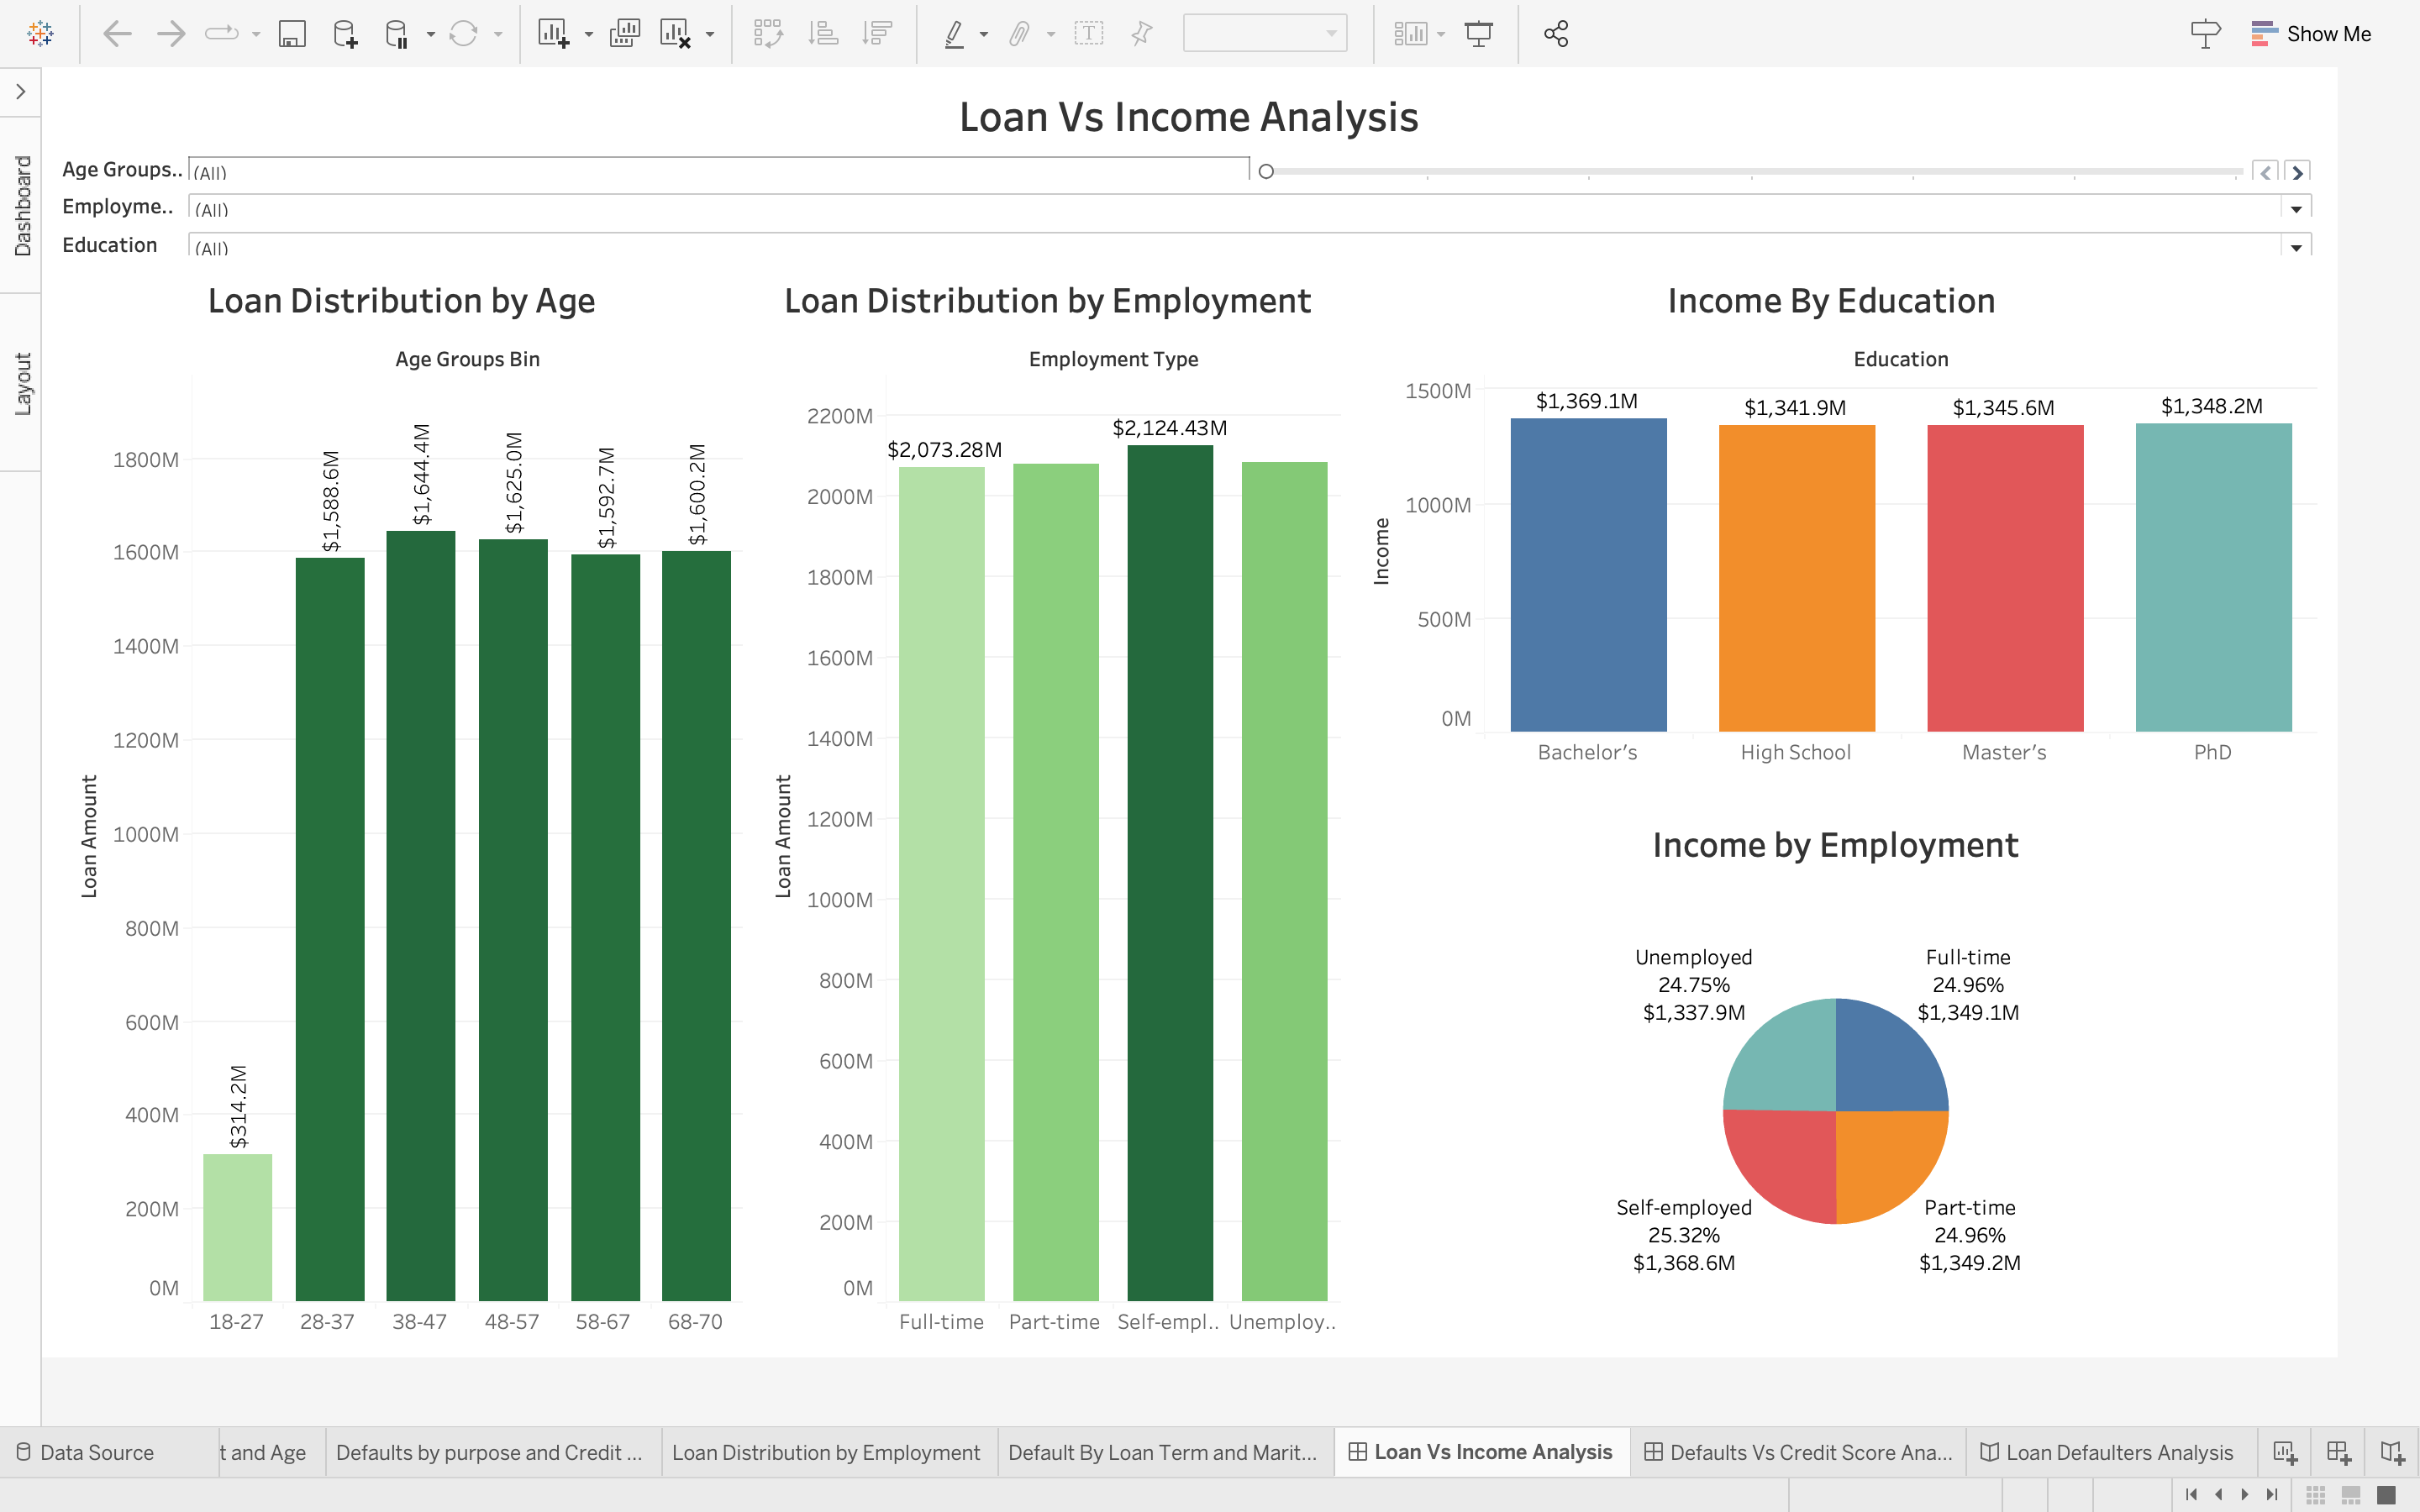

The dashboard page shown, as its layout file describes it:
{"tool":"tableau","page":{"name":"Loan Vs Income Analysis ","canvas":[1366,768],"ordinal":1},"visuals":[{"type":"title","box":[8,8,1350,41]},{"type":"filter","title":"Loan Distribution by Age","param":"[federated.12nipjj1i3w28v14qn73b0he7jkn].[none:Age (bin):ok]","box":[8,49,1350,22.3]},{"type":"filter","title":"Loan Distribution by Employment","param":"[federated.12nipjj1i3w28v14qn73b0he7jkn].[none:EmploymentType:nk]","box":[8,71.3,1350,22.3]},{"type":"filter","title":"Income By Education","param":"[federated.12nipjj1i3w28v14qn73b0he7jkn].[none:Education:nk]","box":[8,93.7,1350,22.3]},{"type":"worksheet","title":"Loan Distribution by Age","mark":"Automatic","rows":["LoanAmount"],"cols":["Age (bin)"],"box":[8,116,413,644]},{"type":"worksheet","title":"Loan Distribution by Employment","mark":"Automatic","rows":["LoanAmount"],"cols":["EmploymentType"],"box":[421,116,356,644]},{"type":"worksheet","title":"Income By Education","mark":"Automatic","rows":["Income"],"cols":["Education"],"box":[777,116,581,324]},{"type":"worksheet","title":"Income by Employment","mark":"Pie","box":[777,440,581,320]}]}

Visuals, with their boxes on the page's 1366x768 design canvas (x1, y1, x2, y2). These are canvas units, not pixel positions in the 2420x1512 screenshot, which may show the page scaled, cropped or inside an application window:
title: bbox=[8, 8, 1358, 49]
"Loan Distribution by Age" filter: bbox=[8, 49, 1358, 71]
"Loan Distribution by Employment" filter: bbox=[8, 71, 1358, 94]
"Income By Education" filter: bbox=[8, 94, 1358, 116]
"Loan Distribution by Age" worksheet: bbox=[8, 116, 421, 760]
"Loan Distribution by Employment" worksheet: bbox=[421, 116, 777, 760]
"Income By Education" worksheet: bbox=[777, 116, 1358, 440]
"Income by Employment" worksheet (Pie marks): bbox=[777, 440, 1358, 760]
